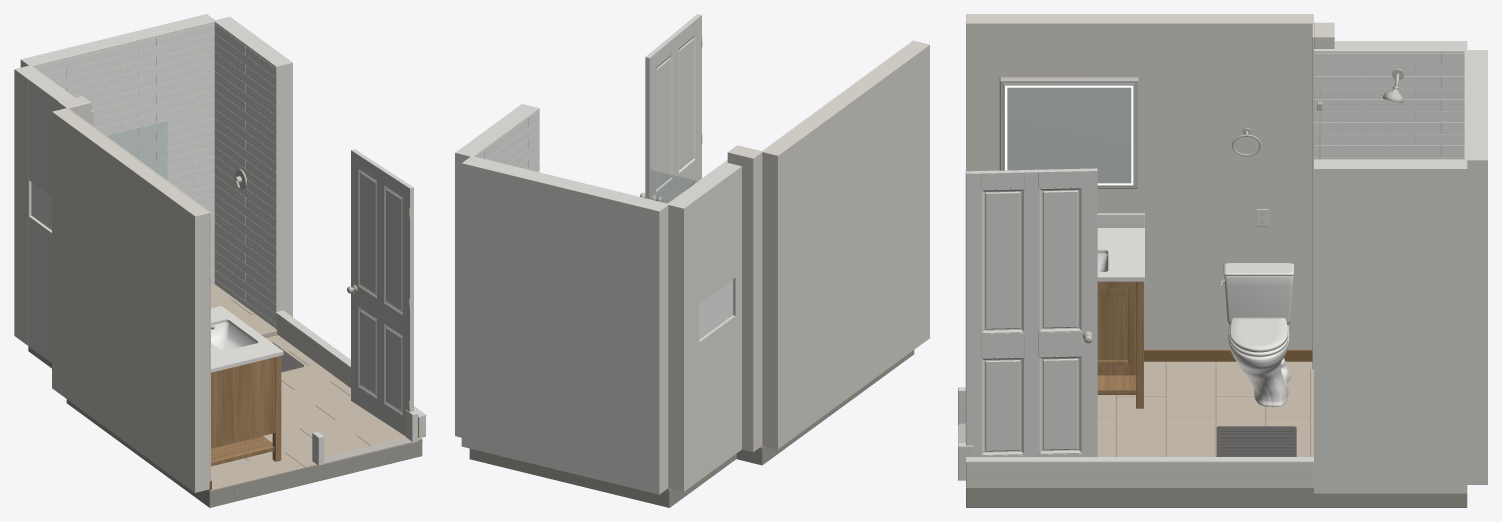
The model's file is west-seattle-bathroom-renovation-three-bathrooms.glb.
The picture shows the model from 3 angles, left to right: view 1: azimuth 30°, elevation 25°; view 2: azimuth 150°, elevation 25°; view 3: azimuth 270°, elevation 25°; orthographic projection. The views are drawn at different scales.
Parts seen in each view (by area): view 1: Vanity and WC wall · wall · wall core, Basement subway · field tile, Right return · field tile, Basement left return · wall core, Room floor · tile, Entry door · stile, Right return · wall core, Vanity · side panel, Basement subway · wall core, Room floor · foundation, Vanity · quartz deck and rectangular sink, Entry door · molded panel.003 (+15 smaller); view 2: Basement subway · wall core, Vanity and WC wall · wall · wall core, Basement left return · wall core, Painted shower-jamb return · wall core, Entry door · stile, Right return · wall core, Entry door · molded panel.001, Entry door · molded panel.003, Right return · field tile, Room floor · foundation, Basement shower · foundation, Entry door · rail (+3 smaller); view 3: Vanity and WC wall · wall · trowelled face, Right return · wall core, Basement left return · field tile, Room floor · tile, Entry door · stile, Vanity mirror · silvered face, Basement subway · wall core, Sectioned wall · low edge, Room floor · foundation, Entry door · molded panel.003, Entry door · molded panel.001, Entry door · molded panel.002 (+23 smaller).
Boxes of the visible parts, <box> form: Vanity and WC wall · wall · wall core: <box>52,108,209,492</box>; Basement subway · field tile: <box>32,21,214,284</box>; Right return · field tile: <box>214,22,276,328</box>; Basement left return · wall core: <box>14,65,93,362</box>; Room floor · tile: <box>208,335,421,490</box>; Entry door · stile: <box>351,149,413,436</box>; Right return · wall core: <box>214,16,292,318</box>; Vanity · side panel: <box>211,357,275,448</box>; Basement subway · wall core: <box>20,14,215,279</box>; Room floor · foundation: <box>28,346,422,501</box>; Vanity · quartz deck and rectangular sink: <box>211,306,283,372</box>; Entry door · molded panel.003: <box>357,168,377,298</box>; Basement subway · wall core: <box>461,156,668,494</box>; Vanity and WC wall · wall · wall core: <box>762,41,929,449</box>; Basement left return · wall core: <box>667,160,741,491</box>; Painted shower-jamb return · wall core: <box>727,146,762,452</box>; Entry door · stile: <box>645,14,701,199</box>; Right return · wall core: <box>455,104,538,437</box>; Entry door · molded panel.001: <box>678,34,695,173</box>; Entry door · molded panel.003: <box>655,53,672,192</box>; Right return · field tile: <box>474,108,539,172</box>; Room floor · foundation: <box>469,448,736,507</box>; Basement shower · foundation: <box>471,449,669,503</box>; Entry door · rail: <box>651,19,695,203</box>; Vanity and WC wall · wall · trowelled face: <box>966,22,1312,349</box>; Right return · wall core: <box>1314,159,1467,493</box>; Basement left return · field tile: <box>1314,51,1464,159</box>; Room floor · tile: <box>1097,361,1313,487</box>; Entry door · stile: <box>965,168,1097,456</box>; Vanity mirror · silvered face: <box>1003,83,1134,186</box>; Basement subway · wall core: <box>1465,50,1487,484</box>; Sectioned wall · low edge: <box>966,462,1313,487</box>; Room floor · foundation: <box>966,489,1467,507</box>; Entry door · molded panel.003: <box>1038,187,1082,332</box>; Entry door · molded panel.001: <box>981,188,1024,333</box>; Entry door · molded panel.002: <box>1038,355,1082,454</box>.
Size of the model in its own units: 2.03 by 2.38 by 3.18.
22 materials, 2 textured.
